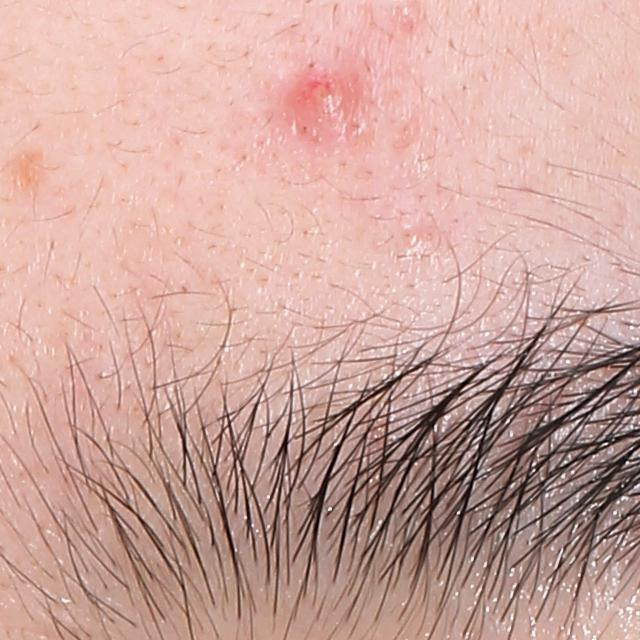papule: (285, 53, 376, 140)
